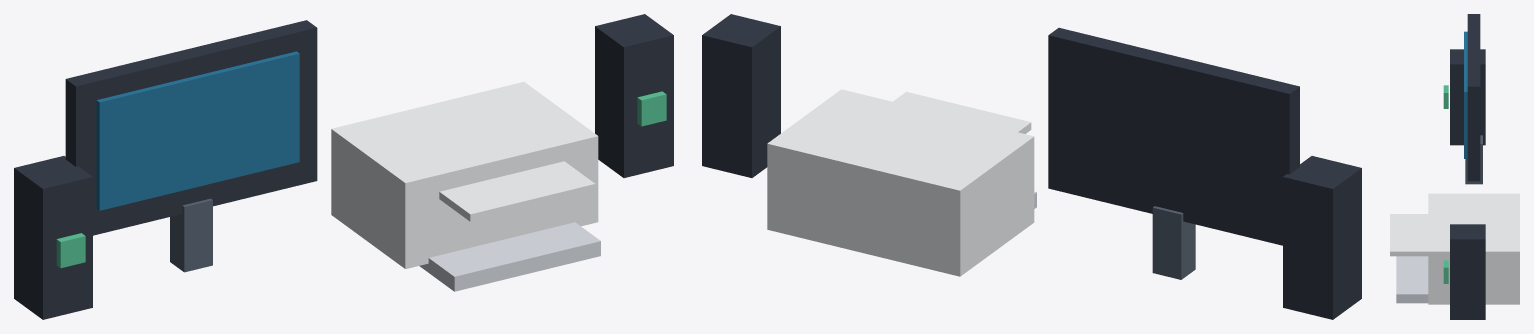
3 renders of one model, left to right at view 1: azimuth 30°, elevation 25°; view 2: azimuth 150°, elevation 25°; view 3: azimuth 270°, elevation 25°, orthographic. The views are drawn at different scales.
Visible parts, largest first — view 1: printer body, monitor screen, monitor body, speaker left, speaker right, printer tray, paper, monitor stand, speaker light left, speaker light right; view 2: monitor body, printer body, speaker left, speaker right, monitor stand, paper; view 3: printer body, speaker right, monitor body, speaker left, paper, printer tray, monitor screen, monitor stand, speaker light left, speaker light right.
Boxes of the visible parts, box(x1,y1,x2,y2) form: printer body: box(331, 82, 598, 268); monitor screen: box(96, 51, 299, 210); monitor body: box(65, 20, 317, 235); speaker left: box(14, 156, 92, 319); speaker right: box(595, 14, 673, 177); printer tray: box(419, 222, 600, 291); paper: box(439, 161, 595, 221); monitor stand: box(170, 198, 212, 272); speaker light left: box(56, 233, 85, 268); speaker light right: box(637, 91, 666, 126); monitor body: box(1048, 27, 1299, 245); printer body: box(767, 89, 1034, 276); speaker left: box(1283, 156, 1361, 319); speaker right: box(702, 14, 780, 177); monitor stand: box(1152, 206, 1195, 279); paper: box(893, 92, 1031, 133); printer body: box(1428, 193, 1519, 304); speaker right: box(1450, 224, 1485, 319); monitor body: box(1467, 14, 1480, 181); speaker left: box(1450, 49, 1485, 145); paper: box(1390, 214, 1428, 256); printer tray: box(1396, 256, 1428, 303); monitor screen: box(1464, 31, 1467, 158); monitor stand: box(1465, 135, 1482, 184); speaker light left: box(1443, 85, 1448, 108); speaker light right: box(1443, 260, 1448, 283).
Size of the model in its own units: 3.53 by 1.29 by 1.02.
